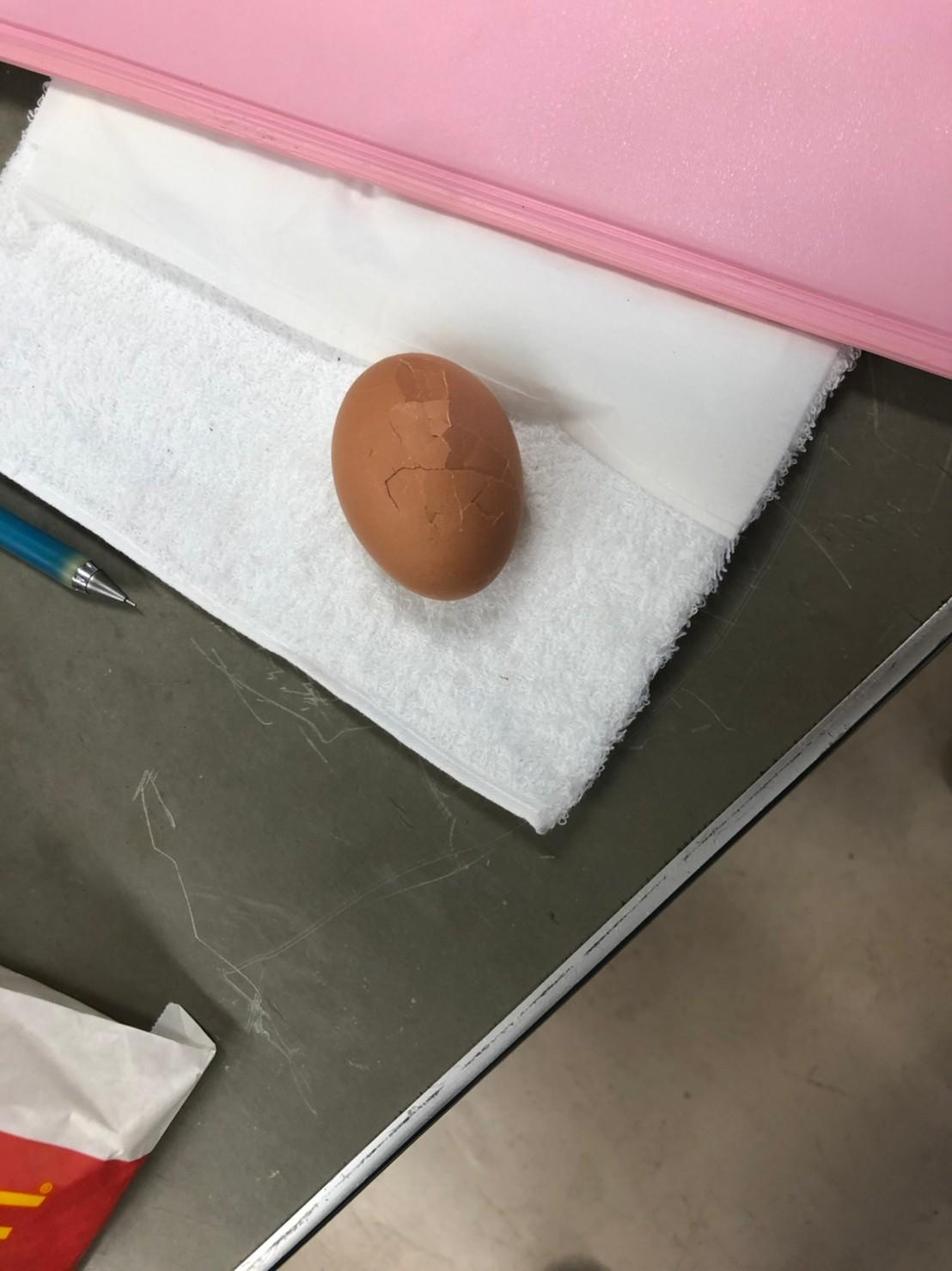egg: (323, 346, 534, 611)
